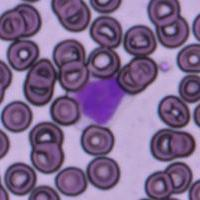M: (73, 75, 133, 127)
